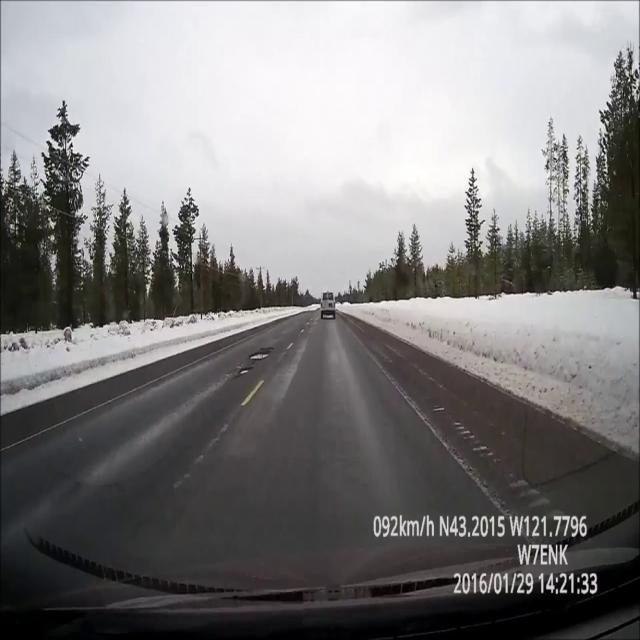Pothole: (248, 346, 274, 362), (237, 365, 255, 376)
